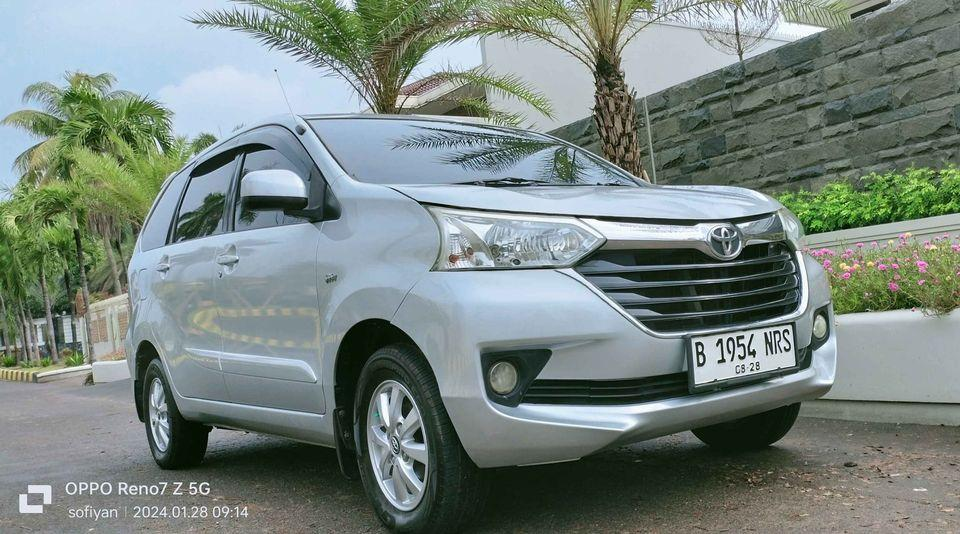plat nomor: (671, 314, 802, 395)
